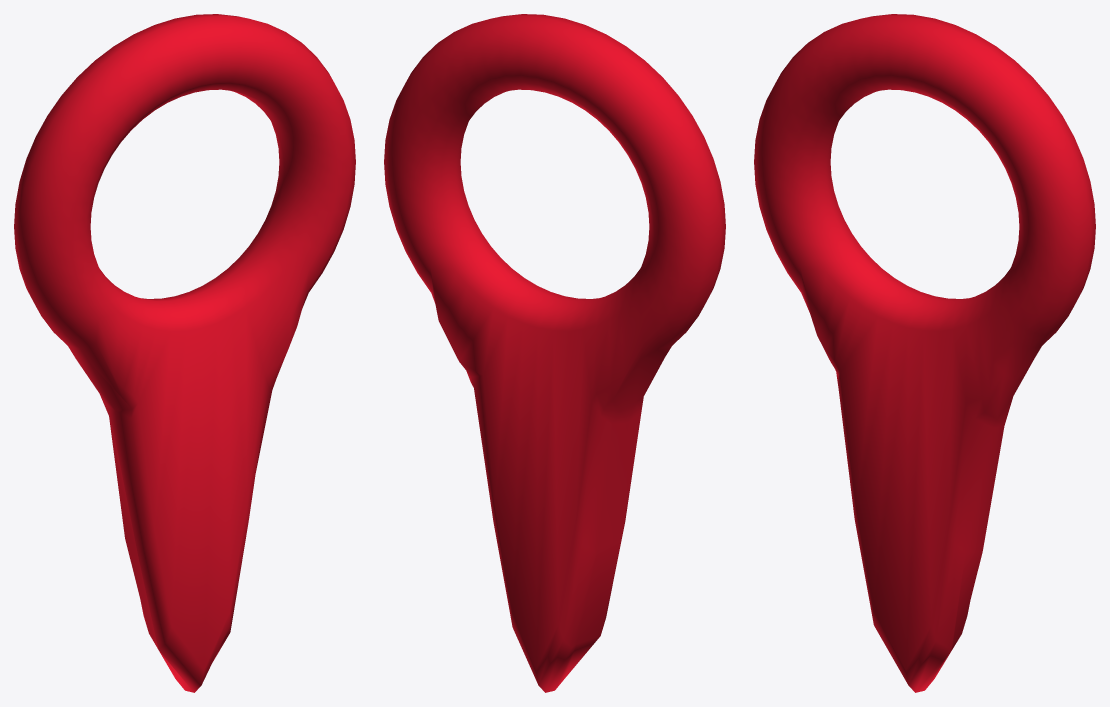
The model's file is pin.gltf.
3 views of the same model, side by side, from view 1: azimuth 30°, elevation 25°; view 2: azimuth 150°, elevation 25°; view 3: azimuth 330°, elevation 25° (orthographic).
Visible parts, largest first — view 1: トーラス; view 2: トーラス; view 3: トーラス.
Part boxes in pixels (<box>): トーラス: <box>14,14,355,692</box>; トーラス: <box>384,14,725,692</box>; トーラス: <box>754,14,1095,692</box>.
Size of the model in its own units: 6.93 by 13.38 by 1.39.
